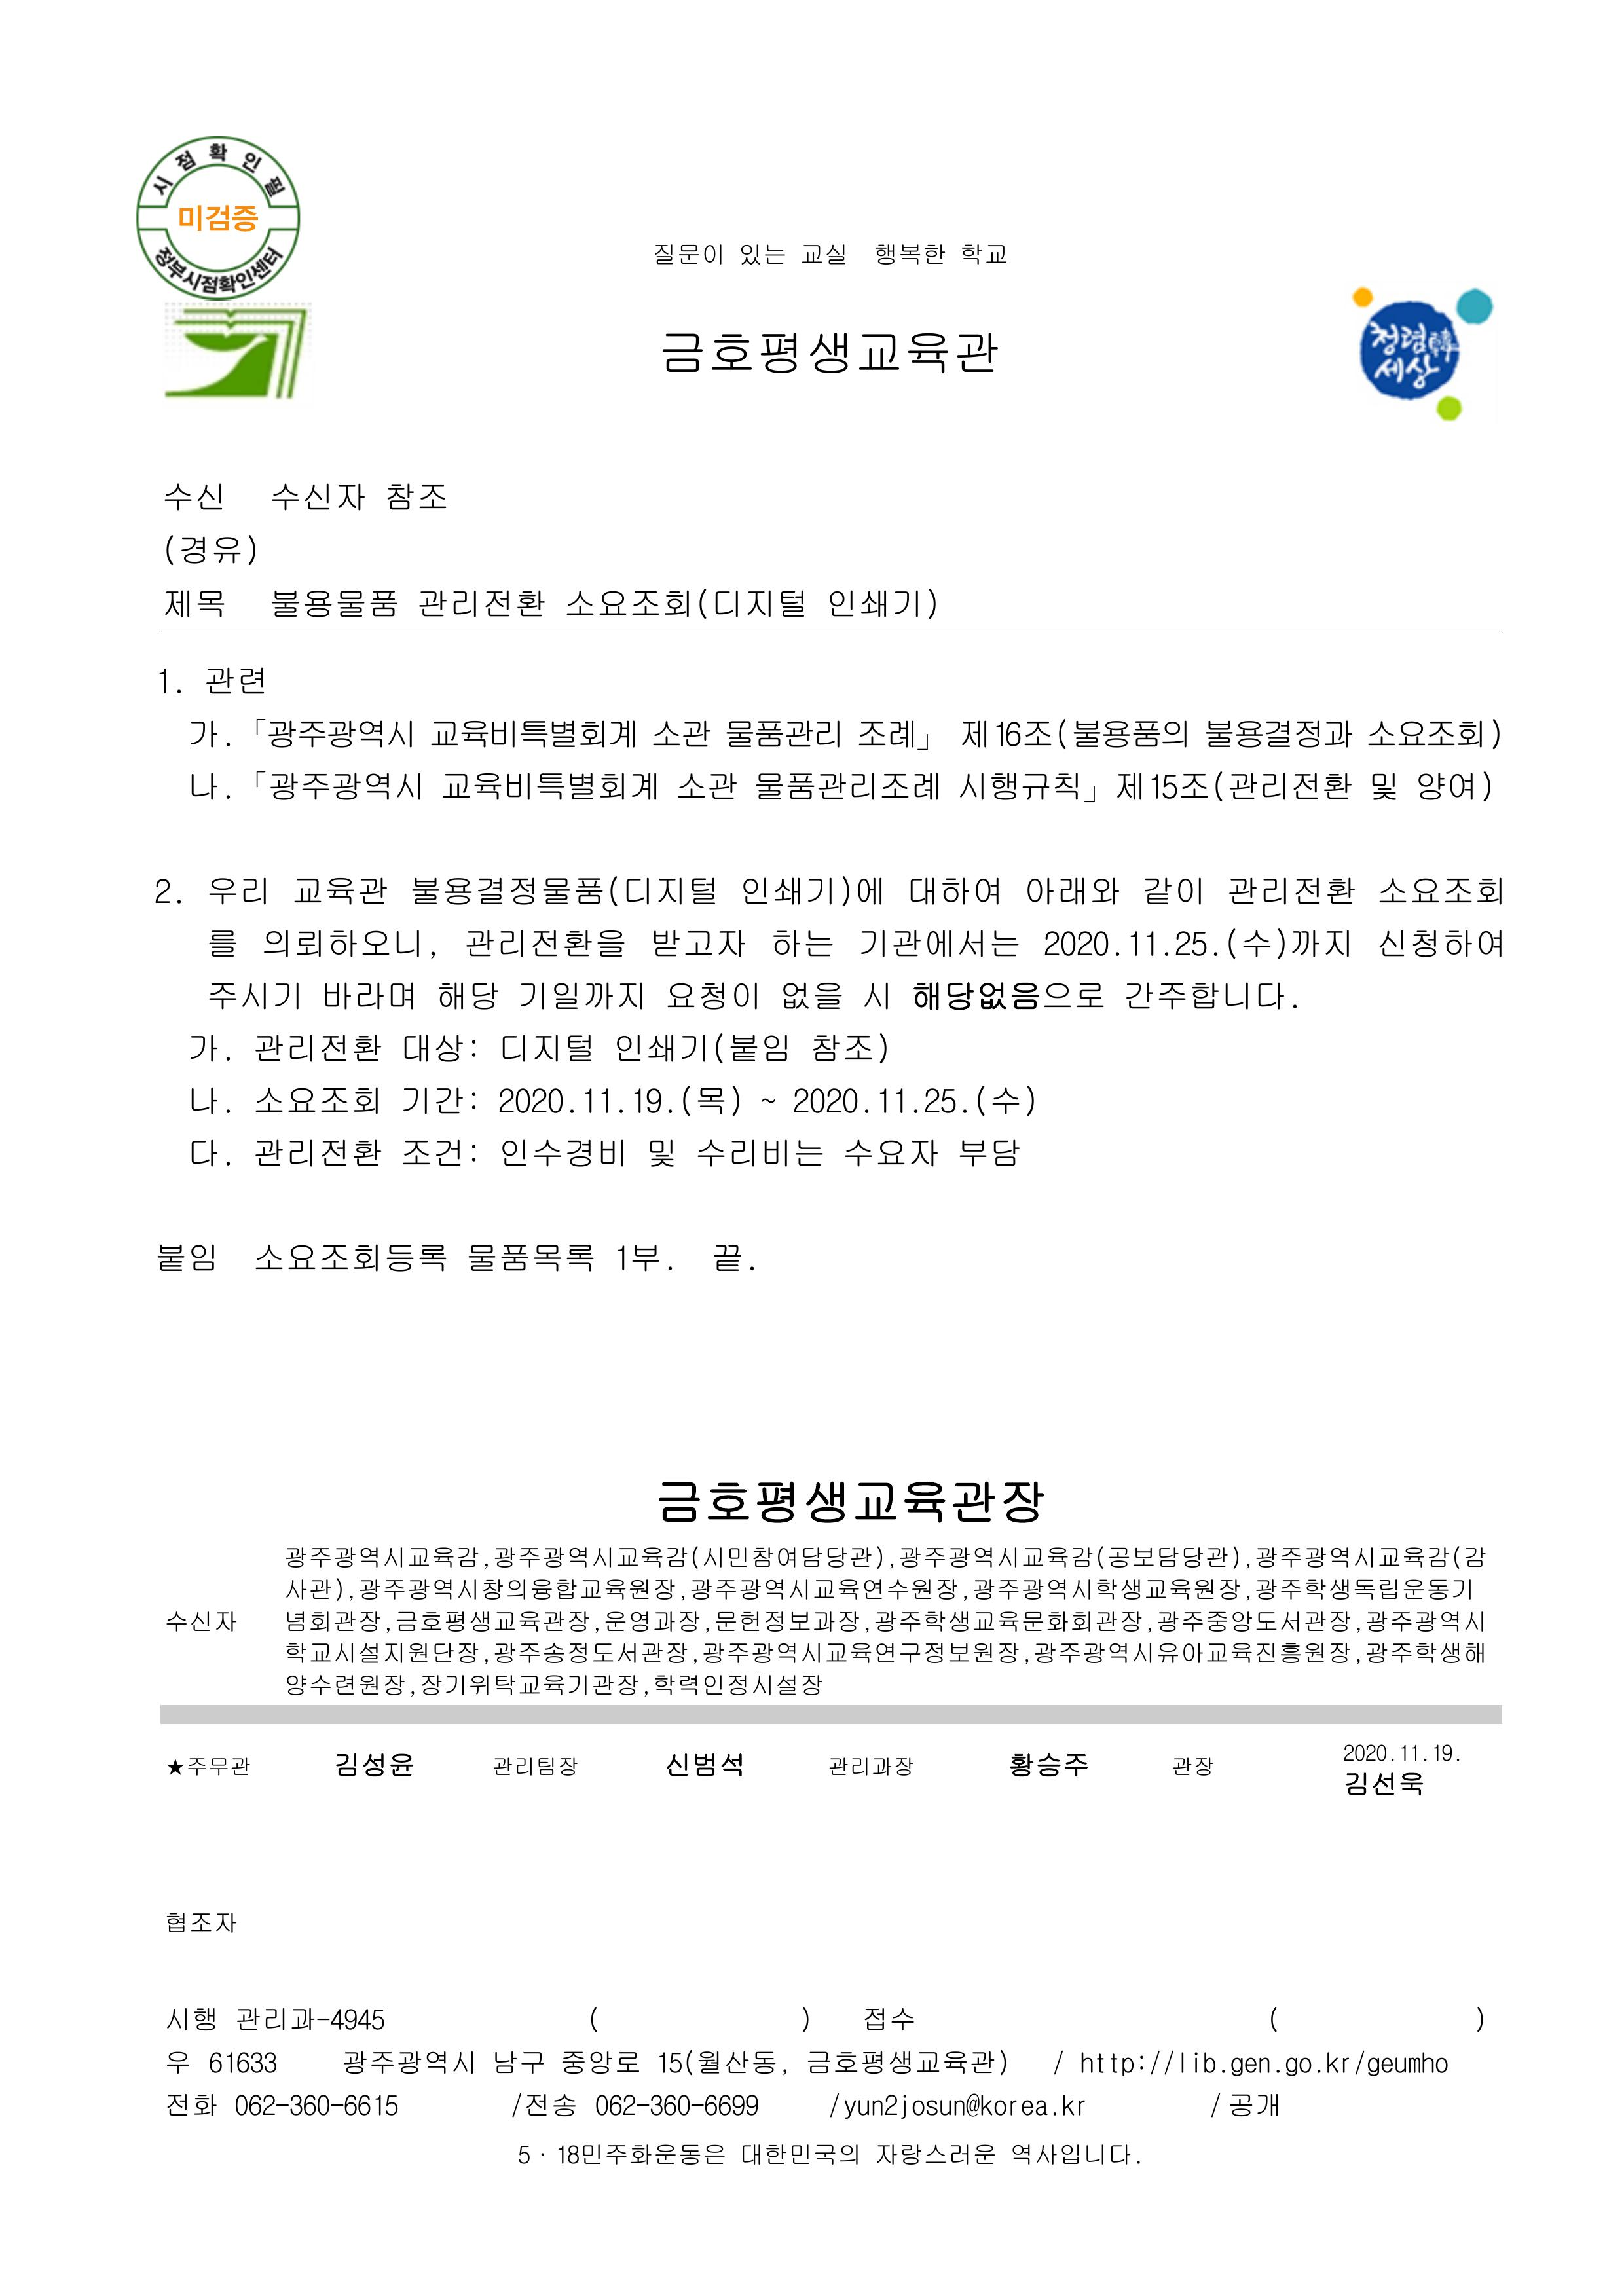t: (487, 1541, 1247, 1574), (656, 1477, 1047, 1531), (599, 1603, 1147, 1638), (659, 326, 1000, 380), (800, 1642, 1438, 1667), (409, 871, 717, 911), (681, 1577, 1144, 1603), (1111, 767, 1356, 807), (957, 713, 1190, 753), (563, 584, 807, 620), (441, 767, 659, 807), (430, 713, 638, 753), (251, 1237, 448, 1276), (491, 1642, 800, 1667), (911, 975, 1104, 1014), (1251, 1538, 1488, 1570), (383, 1603, 595, 1638), (802, 2047, 1011, 2082), (613, 1029, 792, 1069), (753, 767, 943, 803), (1122, 975, 1295, 1014), (828, 2094, 1061, 2123), (251, 713, 416, 753), (1255, 1577, 1477, 1606), (251, 767, 423, 803), (1201, 713, 1356, 753), (1151, 1606, 1356, 1635), (857, 925, 1018, 961), (462, 925, 623, 961), (283, 1541, 484, 1570), (484, 1577, 681, 1606), (419, 1674, 642, 1699), (739, 871, 885, 907), (692, 1129, 826, 1168), (466, 1237, 595, 1276), (287, 1642, 491, 1667), (268, 584, 397, 623), (498, 1133, 627, 1172), (287, 1577, 480, 1603), (1366, 713, 1502, 749), (494, 1082, 631, 1118), (720, 713, 842, 753), (1219, 925, 1352, 961), (251, 1029, 383, 1065), (251, 1133, 383, 1169), (1226, 871, 1356, 907), (416, 584, 545, 620), (1373, 871, 1502, 907), (1377, 925, 1506, 961), (652, 2044, 781, 2080), (516, 979, 645, 1014), (957, 767, 1082, 803), (341, 2047, 477, 2080), (627, 1082, 746, 1118), (251, 1082, 380, 1115), (824, 584, 939, 620), (871, 2137, 997, 2169), (602, 2137, 728, 2169), (157, 530, 258, 570), (326, 925, 434, 961), (268, 477, 369, 513), (1022, 871, 1122, 907), (1011, 2140, 1137, 2169), (739, 2140, 864, 2169), (663, 979, 764, 1014), (839, 1137, 939, 1172), (283, 1671, 409, 1699), (1366, 1609, 1488, 1638), (290, 871, 387, 907), (907, 871, 1004, 907), (649, 925, 746, 961), (498, 1029, 591, 1065), (283, 1606, 387, 1638), (1122, 925, 1212, 961), (871, 1082, 961, 1118), (788, 1082, 875, 1118), (208, 979, 304, 1011), (319, 979, 416, 1011), (1040, 925, 1126, 961), (1004, 1746, 1090, 1782), (175, 200, 258, 236), (1412, 767, 1495, 803), (807, 1029, 889, 1065), (397, 1082, 480, 1118), (397, 1133, 480, 1169), (1366, 319, 1441, 358), (401, 1029, 480, 1065), (555, 2047, 642, 2080), (1341, 1767, 1424, 1800), (333, 1750, 416, 1782), (871, 236, 950, 268), (853, 717, 932, 749), (1352, 2055, 1452, 2080), (1147, 1577, 1244, 1603), (380, 477, 448, 513), (972, 1082, 1040, 1118), (703, 1674, 800, 1699), (663, 1750, 746, 1778), (294, 2008, 387, 2033), (161, 584, 226, 620), (674, 767, 739, 803), (1140, 871, 1205, 907), (261, 925, 326, 961), (771, 925, 836, 961), (1075, 2047, 1147, 2080), (434, 979, 498, 1014), (778, 979, 842, 1014), (157, 1240, 219, 1276), (208, 871, 268, 907), (164, 1606, 240, 1635), (204, 663, 265, 699), (494, 1757, 581, 1782), (161, 480, 226, 513), (649, 717, 713, 749), (957, 1137, 1022, 1169), (509, 2090, 577, 2119), (1226, 2087, 1280, 2123), (1373, 355, 1434, 387), (828, 1757, 918, 1778), (613, 1240, 667, 1276), (337, 2090, 401, 2119), (168, 1757, 251, 1778), (168, 1911, 240, 1936), (699, 2090, 760, 2119), (219, 2047, 280, 2076), (164, 2004, 219, 2033), (649, 240, 703, 268), (735, 240, 788, 268), (796, 240, 849, 268), (552, 2140, 606, 2169), (186, 717, 232, 749), (232, 2004, 283, 2033), (229, 2090, 280, 2119), (283, 2090, 333, 2119), (591, 2090, 642, 2119), (186, 767, 226, 803), (186, 1029, 226, 1065), (186, 1133, 226, 1169), (164, 2094, 222, 2119), (491, 2051, 548, 2076), (645, 2090, 692, 2119), (186, 1082, 226, 1115), (710, 1240, 746, 1276), (864, 2008, 914, 2033), (957, 244, 1007, 268), (1366, 767, 1398, 803), (1341, 1742, 1391, 1764), (1230, 2055, 1273, 2080), (1283, 2055, 1327, 2080), (208, 925, 236, 961), (860, 979, 893, 1011), (645, 1137, 674, 1172), (652, 1674, 699, 1696), (1172, 1757, 1215, 1778), (1187, 2047, 1219, 2076), (157, 670, 186, 695), (154, 878, 175, 907), (703, 244, 728, 268), (1061, 2097, 1090, 2119), (1323, 2055, 1352, 2076), (1463, 1642, 1488, 1664), (1431, 1742, 1456, 1764), (168, 2051, 190, 2076), (800, 1678, 821, 1699), (516, 2144, 534, 2165), (208, 2051, 222, 2072)
